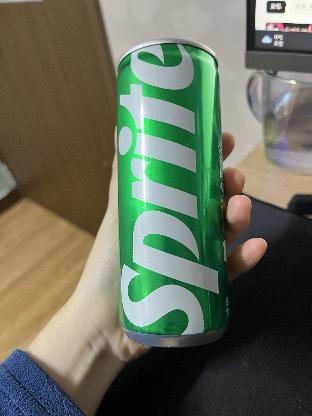Can: (114, 39, 231, 347)
